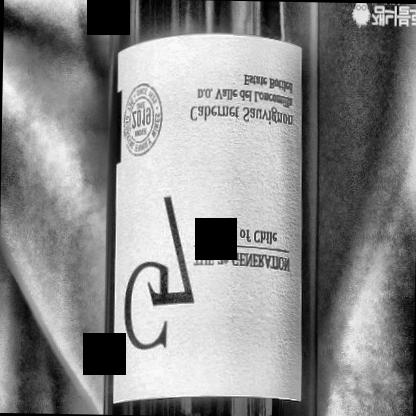G7: (104, 29, 310, 415)
